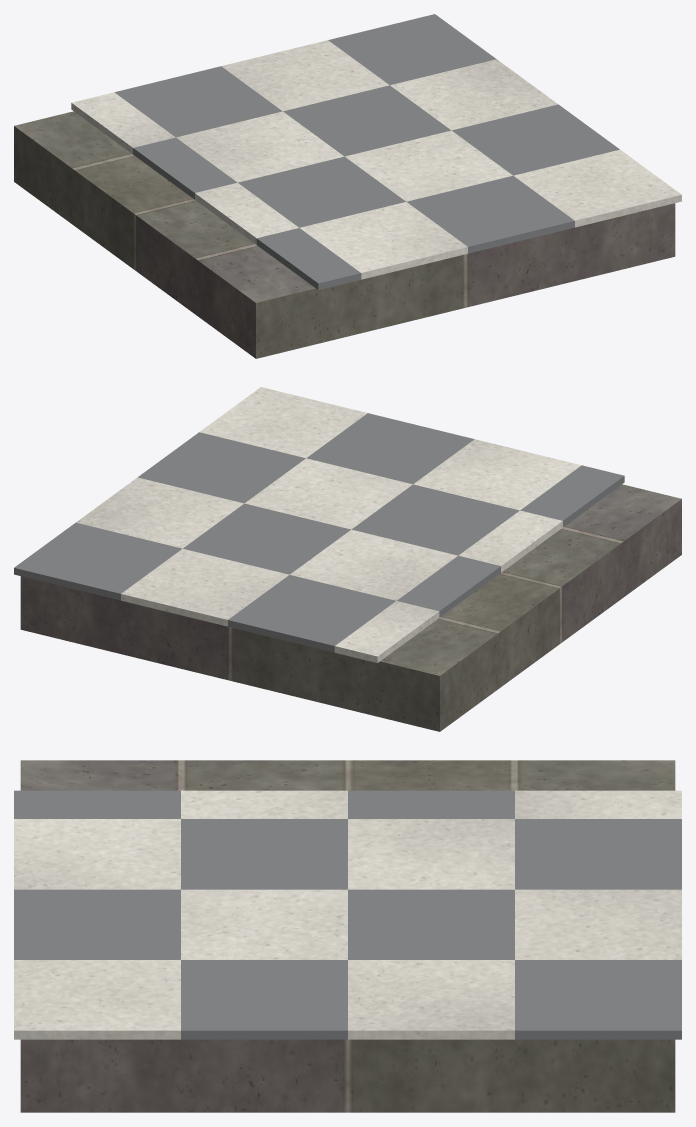
File: floor_marble_g_e1000.glb
The picture shows the model from 3 angles, top to bottom: view 1: azimuth 30°, elevation 25°; view 2: azimuth 150°, elevation 25°; view 3: azimuth 270°, elevation 25°; orthographic projection. The views are drawn at different scales.
Parts seen in each view (by area): view 1: floor_marble_g_e1000_plinth, floor_marble_g_e1000_marble, floor_marble_g_e1000_slate; view 2: floor_marble_g_e1000_plinth, floor_marble_g_e1000_slate, floor_marble_g_e1000_marble; view 3: floor_marble_g_e1000_marble, floor_marble_g_e1000_slate, floor_marble_g_e1000_plinth.
Part boxes in pixels (x1,y1,x2,y2): floor_marble_g_e1000_plinth: [14, 111, 675, 358]; floor_marble_g_e1000_marble: [71, 40, 681, 279]; floor_marble_g_e1000_slate: [114, 14, 619, 289]; floor_marble_g_e1000_plinth: [20, 484, 681, 731]; floor_marble_g_e1000_slate: [14, 413, 624, 652]; floor_marble_g_e1000_marble: [76, 387, 581, 662]; floor_marble_g_e1000_marble: [14, 790, 681, 1039]; floor_marble_g_e1000_slate: [14, 790, 681, 1039]; floor_marble_g_e1000_plinth: [20, 760, 675, 1112].
Bounding box in the file's own units: 1.98 × 0.28 × 2.
Materials: 3 (2 with a texture image).
